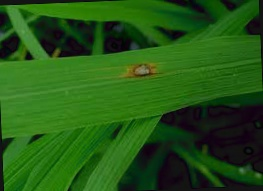Brown_Spot: (123, 52, 164, 80)
